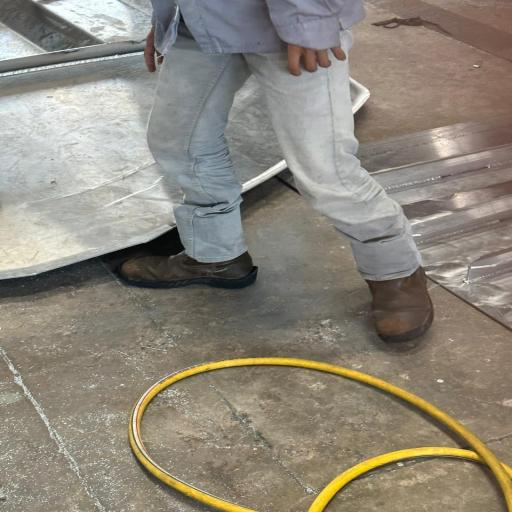safety_shoe: (114, 244, 260, 292), (360, 264, 441, 347)
